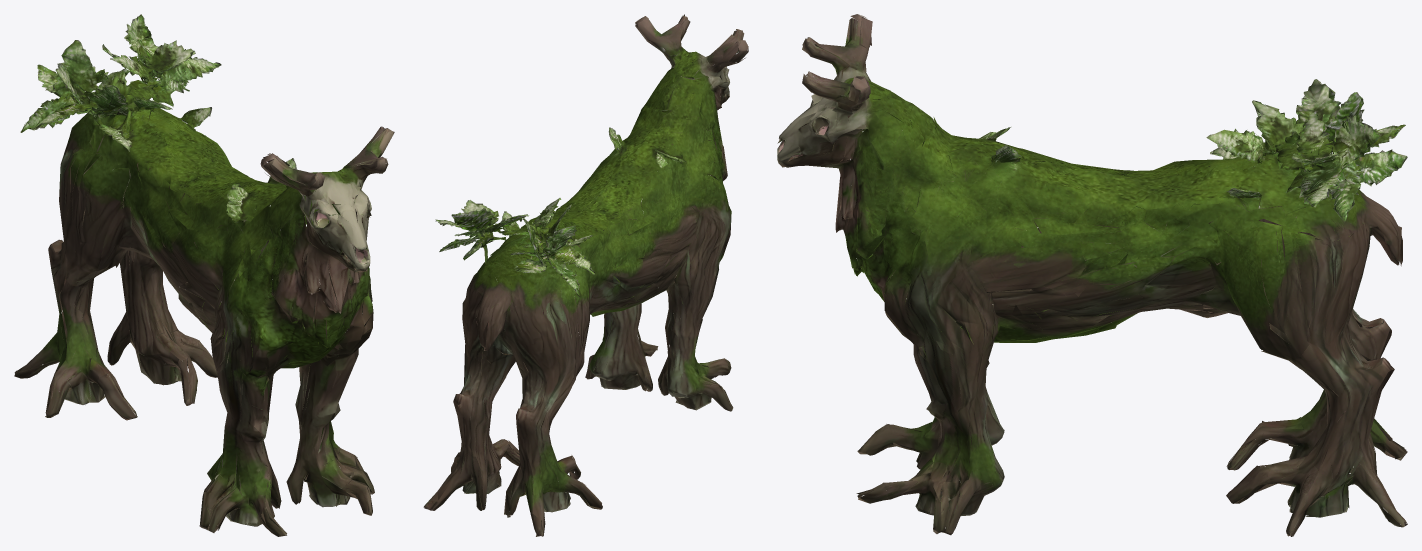
File: mesh_warden_stag_a.glb
The picture shows the model from 3 angles, left to right: view 1: azimuth 30°, elevation 25°; view 2: azimuth 150°, elevation 25°; view 3: azimuth 270°, elevation 25°; orthographic projection. The views are drawn at different scales.
Visible parts, largest first — view 1: mesh_warden_stag_a__Mesh_0; view 2: mesh_warden_stag_a__Mesh_0; view 3: mesh_warden_stag_a__Mesh_0.
Boxes of the visible parts, x1,y1,x2,y2 form: mesh_warden_stag_a__Mesh_0: [14, 14, 394, 536]; mesh_warden_stag_a__Mesh_0: [423, 14, 748, 536]; mesh_warden_stag_a__Mesh_0: [777, 14, 1407, 536].
Size of the model in its own units: 7.26 by 14.9 by 19.
1 material, 1 textured.
